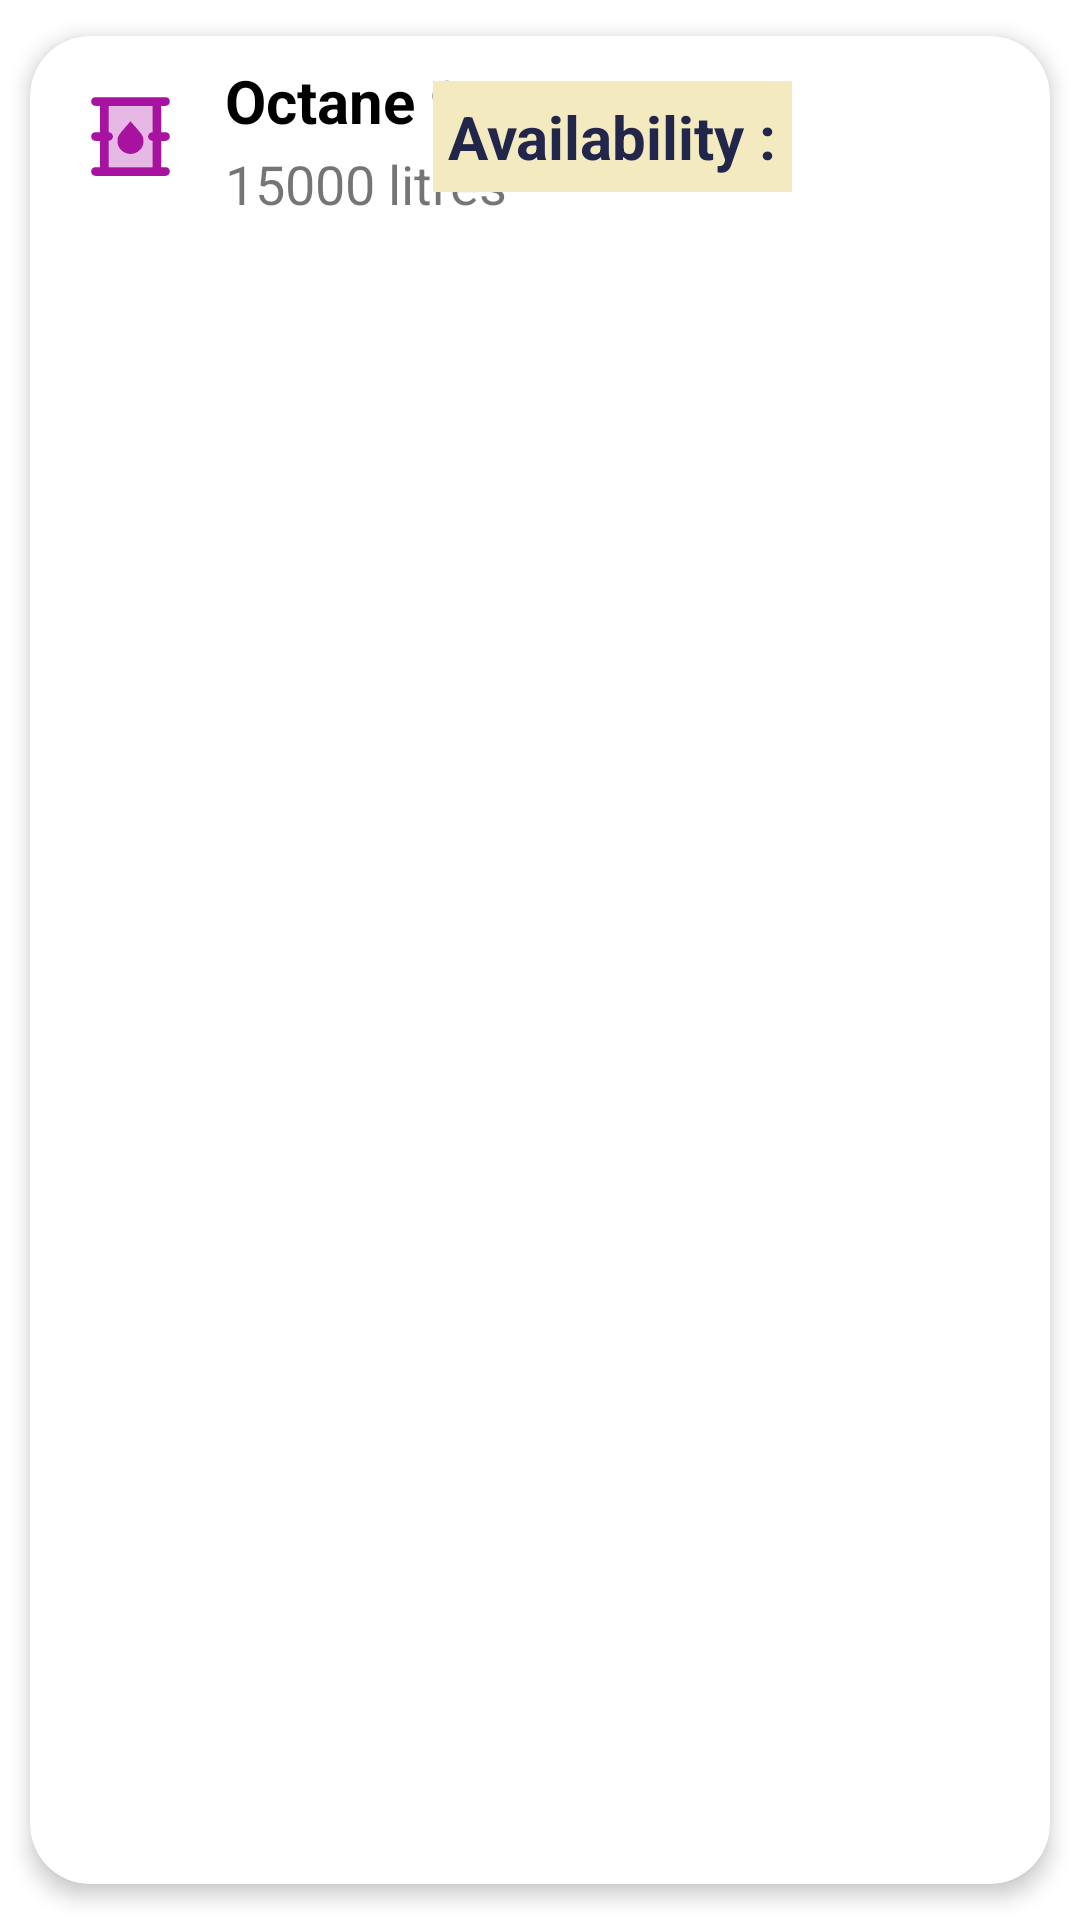

Screen size 1080px×1920px. Icon name, then its center in pixels as (x,y):
stock: (130,136)
